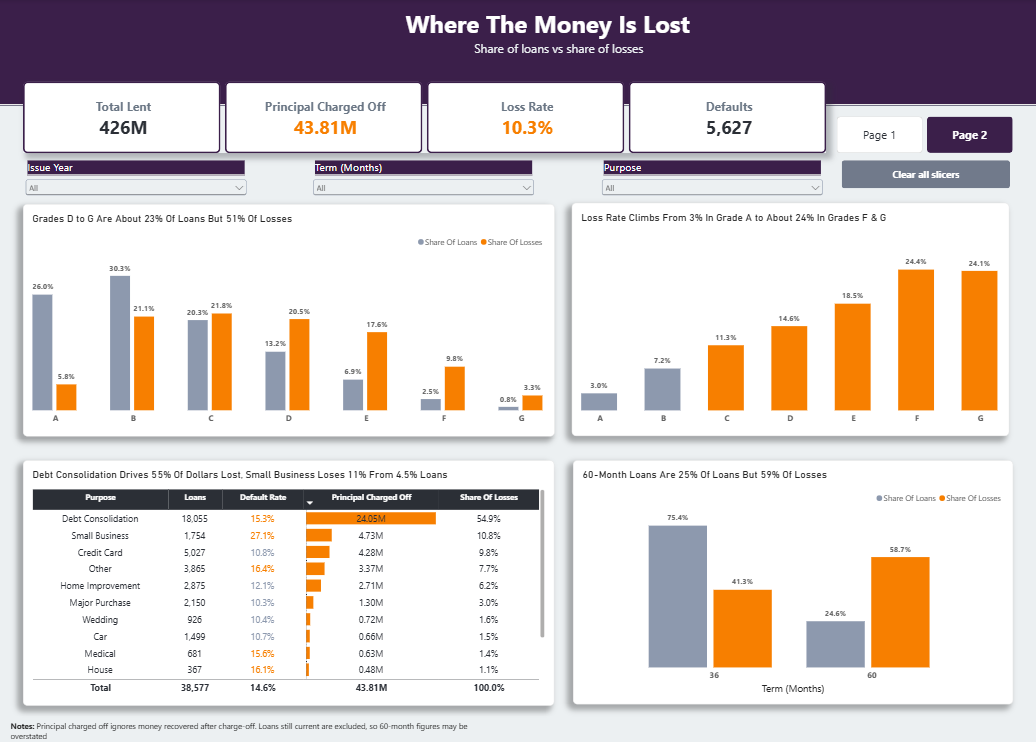

This screenshot's page, from the dashboard's own definition file:
{"tool":"powerbi","page":{"name":"Page 2","canvas":[1850,1330],"ordinal":1},"visuals":[{"type":"shape","box":[0,0,1920,190],"z":0},{"type":"textbox","box":[726,14,530,66],"z":1000},{"type":"cardVisual","fields":{"Data":["loan_clean.Total Lent","loan_clean.Principal Charged Off","loan_clean.Loss Rate","loan_clean.Defaults"]},"box":[44,146,1432,128],"z":2000},{"type":"textbox","box":[850,74.3,444,42],"z":3000},{"type":"pageNavigator","box":[1495,210,315,65],"z":4000},{"type":"actionButton","box":[1503.3,288.3,300,50],"z":5000},{"type":"slicer","title":"Term","fields":{"Values":["loan_clean.term"]},"box":[558,288,403.3,78.3],"z":6000},{"type":"slicer","title":"Term","fields":{"Values":["loan_clean.purpose"]},"box":[1072,288,403.3,78.3],"z":7000},{"type":"slicer","title":"Term","fields":{"Values":["loan_clean.issue_year"]},"box":[44,288,403.3,78.3],"z":8000},{"type":"clusteredColumnChart","title":"Grades D to G Are About 23% Of Loans But 51% Of Losses","fields":{"Category":["loan_clean.grade"],"Y":["loan_clean.Share Of Loans","loan_clean.Share of Losses"]},"box":[44,366,948,414],"z":9000},{"type":"clusteredColumnChart","title":"Loss Rate Climbs From 3% In Grade A to About 24% In Grades F & G","fields":{"Category":["loan_clean.grade"],"Y":["loan_clean.Loss Rate"]},"box":[1024,364,780,416],"z":10000},{"type":"clusteredColumnChart","title":"60-Month Loans Are 25% Of Loans But 59% Of Losses","fields":{"Category":["loan_clean.term"],"Y":["loan_clean.Share Of Loans","loan_clean.Share of Losses"]},"box":[1025,822.5,785,435],"z":11000},{"type":"textbox","box":[22,1286,874,44],"z":12000},{"type":"tableEx","title":"Debt Consolidation Drives 55% Of Dollars Lost, Small Business Loses 11% From 4.5% Loans","fields":{"Values":["loan_clean.purpose","loan_clean.Total Loans","loan_clean.Default Rate","loan_clean.Principal Charged Off","loan_clean.Share Of Losses"]},"box":[45,822.5,947.5,437.5],"z":13000}]}

Visuals, with their boxes in screenshot pixels (x1, y1, x2, y2), scaled from the page's 1850x1330 canvas onto the 1036x742 screenshot:
shape: box=[0, 0, 1035, 106]
textbox: box=[407, 8, 703, 45]
cardVisual - loan_clean.Total Lent x loan_clean.Principal Charged Off: box=[25, 81, 827, 153]
textbox: box=[476, 41, 725, 65]
pageNavigator: box=[837, 117, 1014, 153]
actionButton: box=[842, 161, 1010, 189]
"Term" slicer: box=[312, 161, 538, 204]
"Term" slicer: box=[600, 161, 826, 204]
"Term" slicer: box=[25, 161, 250, 204]
"Grades D to G Are About 23% Of Loans But 51% Of Losses" clusteredColumnChart: box=[25, 204, 556, 435]
"Loss Rate Climbs From 3% In Grade A to About 24% In Grades F & G" clusteredColumnChart: box=[573, 203, 1010, 435]
"60-Month Loans Are 25% Of Loans But 59% Of Losses" clusteredColumnChart: box=[574, 459, 1014, 702]
textbox: box=[12, 717, 502, 741]
"Debt Consolidation Drives 55% Of Dollars Lost, Small Business Loses 11% From 4.5% Loans" tableEx: box=[25, 459, 556, 703]
